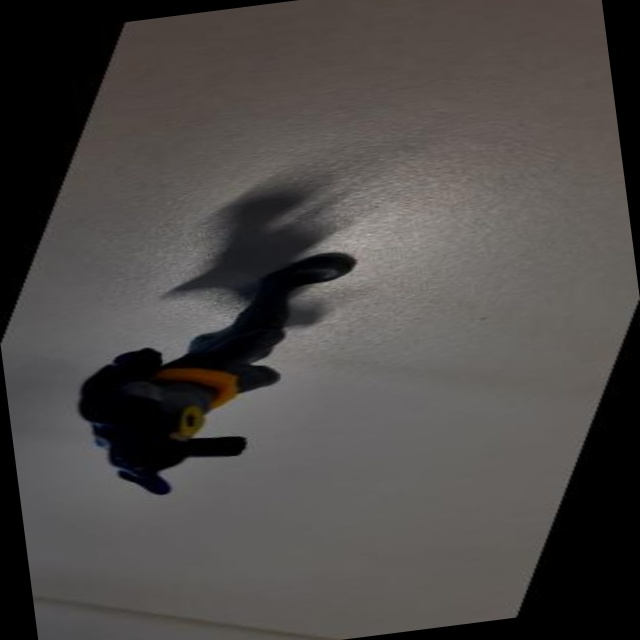Batman: (12, 220, 407, 526)
